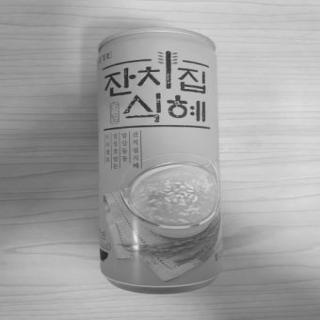alumunium_can: (86, 28, 230, 310)
